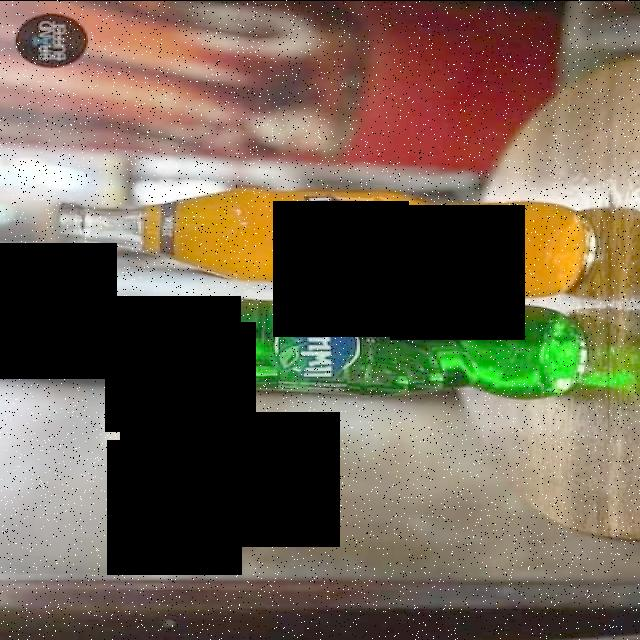glass-bottle: (26, 191, 600, 391)
